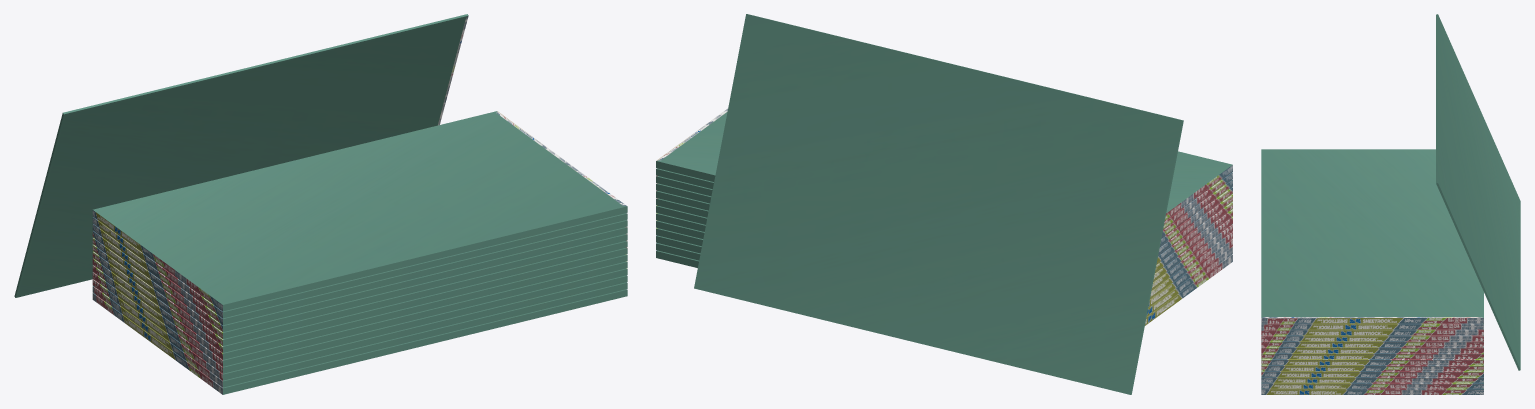
The model's file is gypsum(1).glb.
3 renders of one model, left to right at view 1: azimuth 30°, elevation 25°; view 2: azimuth 150°, elevation 25°; view 3: azimuth 270°, elevation 25°, orthographic. The views are drawn at different scales.
Parts seen in each view (by area): view 1: Cube, Cube.001; view 2: Cube.001, Cube; view 3: Cube, Cube.001.
Part boxes in pixels (box(x1,y1,x2,y2)): Cube: box(92, 111, 627, 394); Cube.001: box(14, 14, 468, 297); Cube.001: box(694, 14, 1183, 394); Cube: box(656, 108, 1232, 325); Cube: box(1261, 149, 1483, 394); Cube.001: box(1436, 14, 1520, 370).
Bounding box in the file's own units: 4.09 × 1.87 × 2.33.
Materials: 1 (1 with a texture image).
